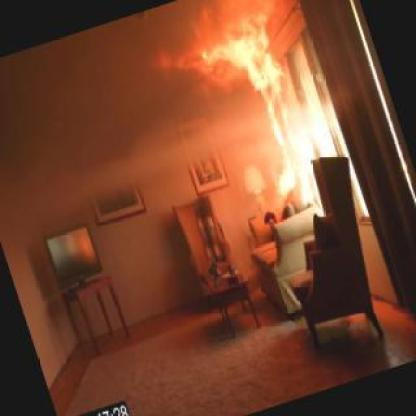Fire: (199, 0, 351, 216)
